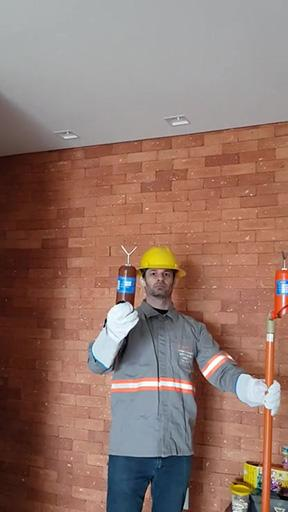Detector_Tensao_Contato: (115, 244, 137, 312), (271, 251, 288, 322)
Vara_Manobra: (259, 315, 276, 512)
